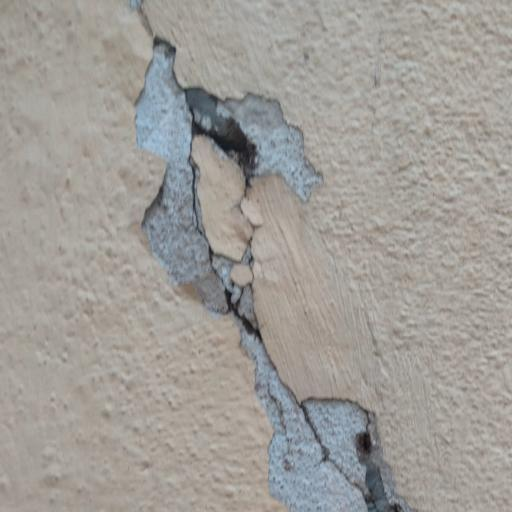major_crack: (126, 0, 401, 512)
